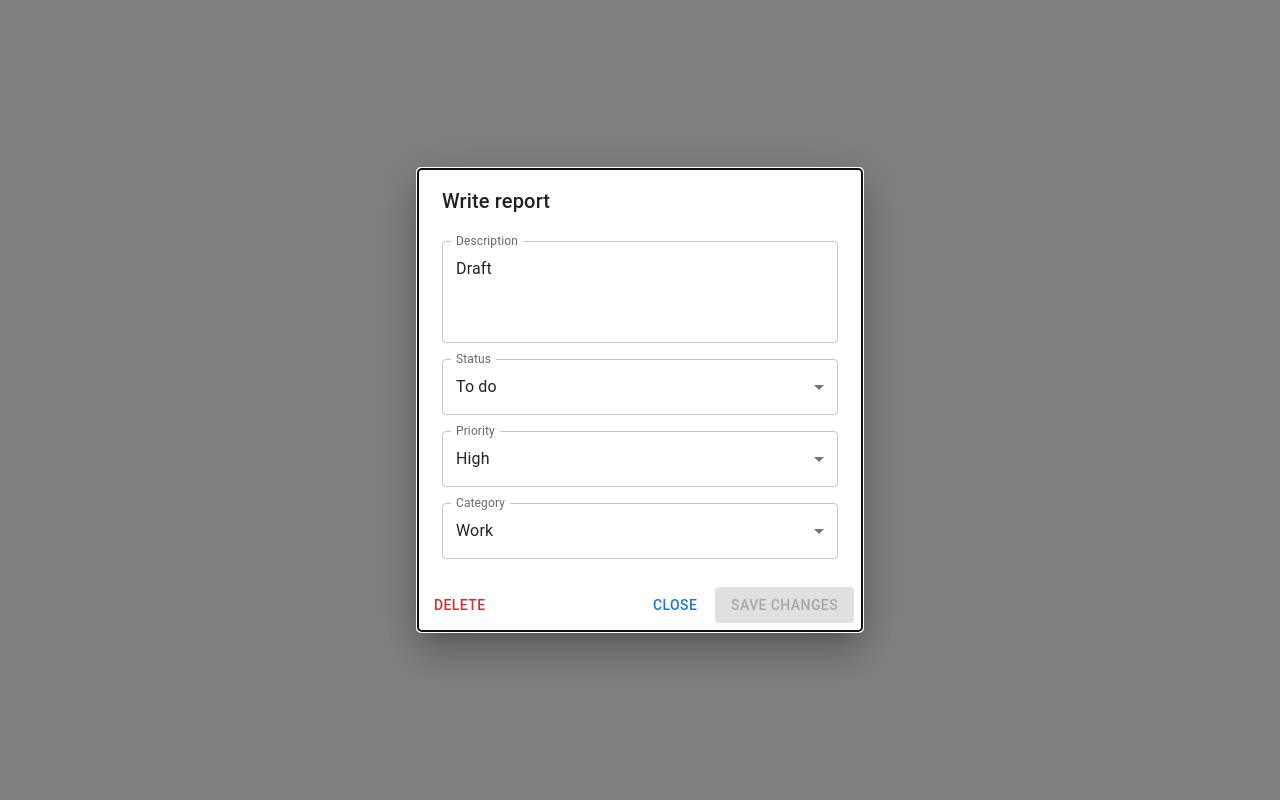
Test: Save changes is disabled until something changes
This screenshot has width=1280, height=800.
Check: the button "Save changes" is disabled, box [715,587,854,623]
Type " - reviewed" into the text box labelled "Description".
click(640, 292); type(" - reviewed")  # box [456,257,824,326]
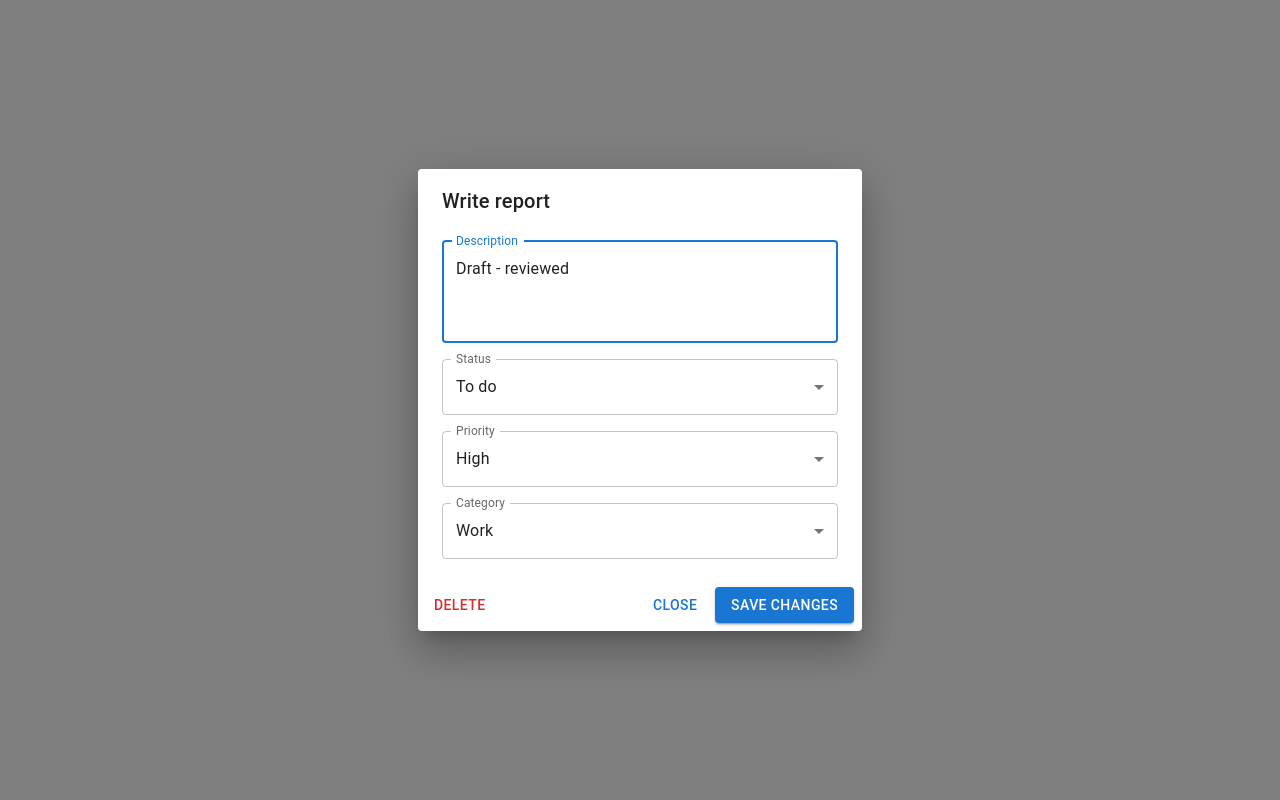
Check: the button "Save changes" is enabled, box [715,587,854,623]
